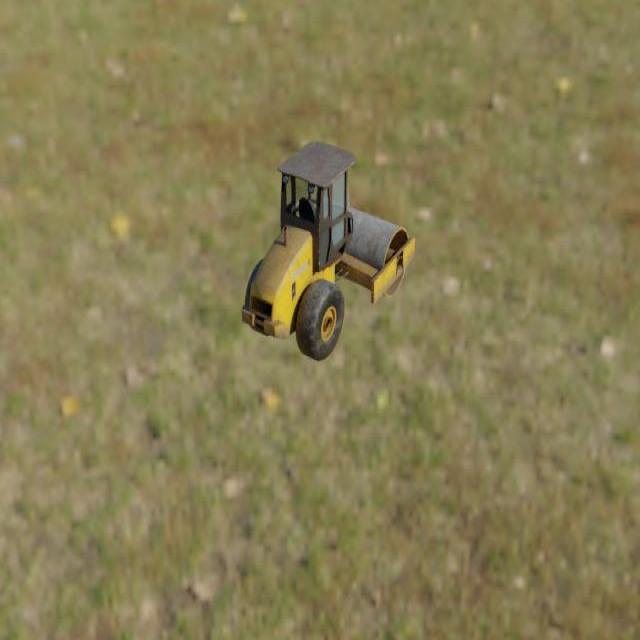Roller: (241, 140, 415, 361)
